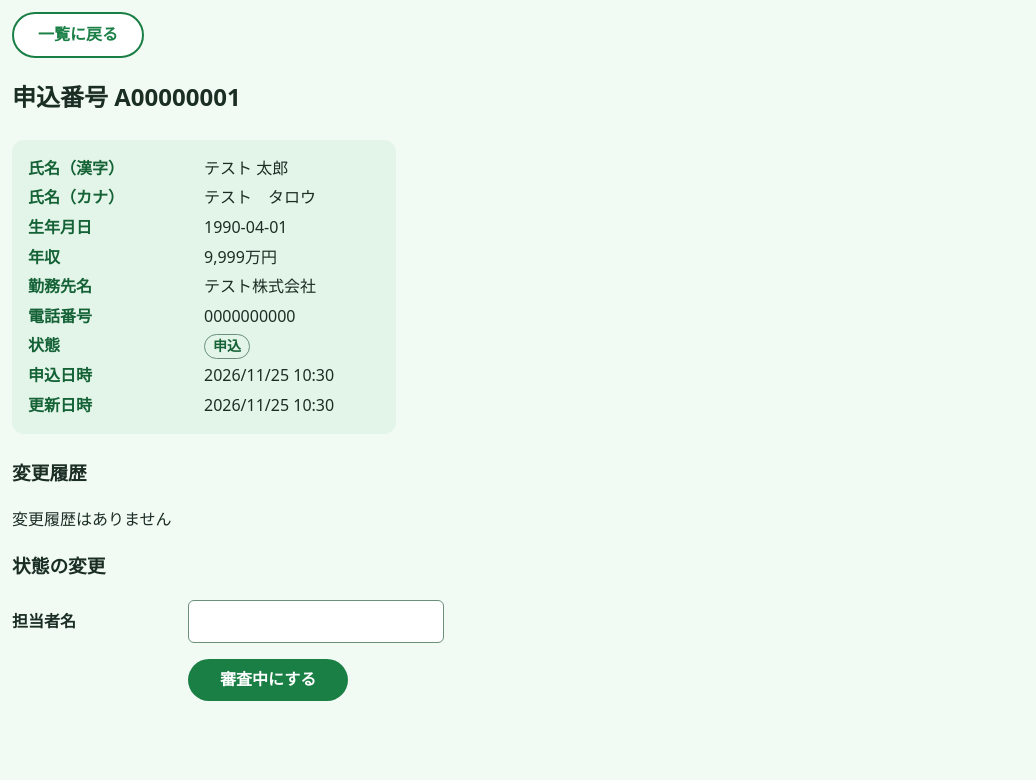
Scenario: 状態の変更が成功すると、返った詳細で状態・更新日時・履歴を置き換える
Type "テスト 担当A" into the field labelled "担当者名" at (316, 622), box x1=188 y1=600 x2=444 y2=644
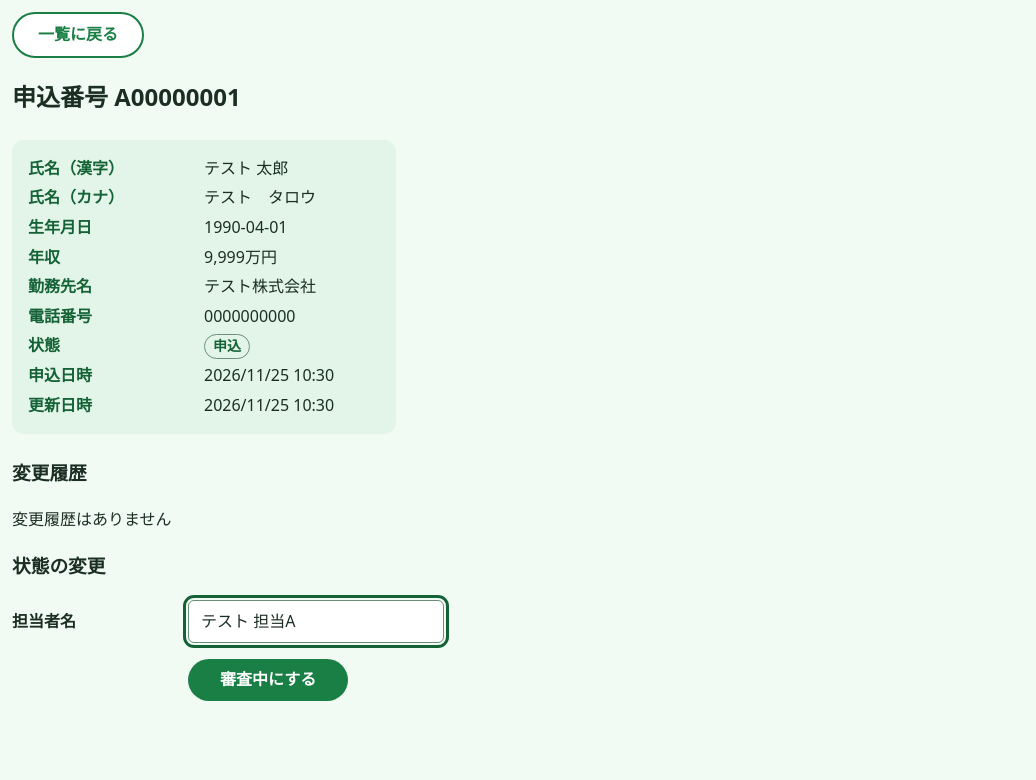
Click the button "審査中にする" at (268, 680), box x1=188 y1=660 x2=348 y2=701
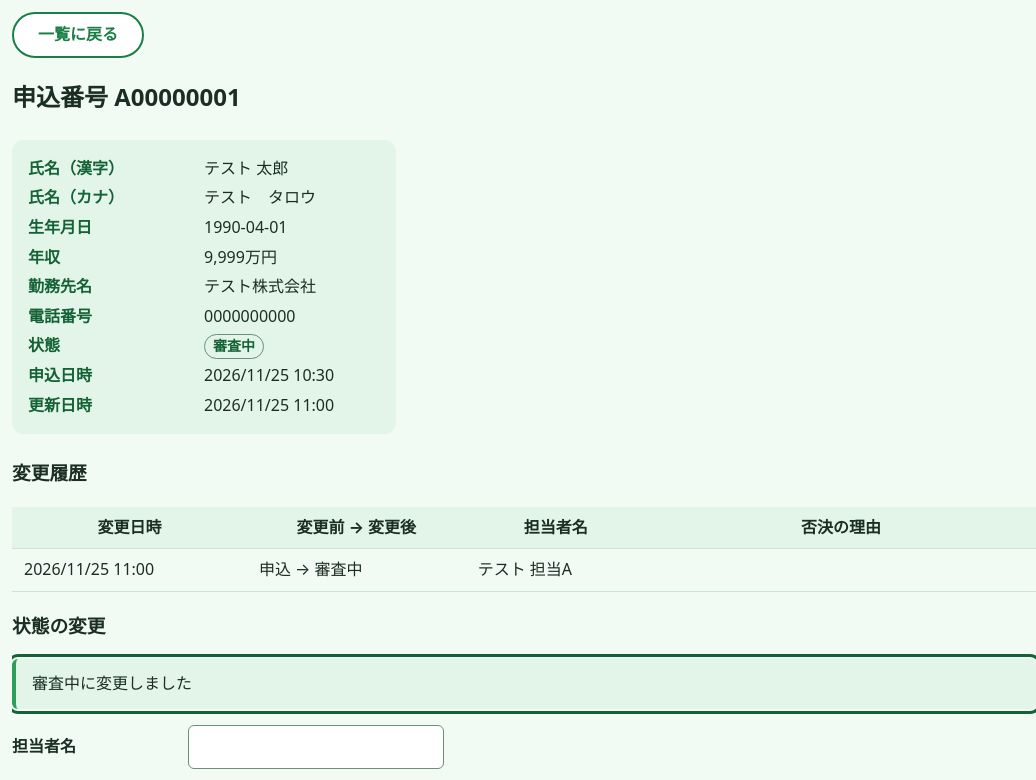
Expected: the text "審査中" is shown, x1=204 y1=334 x2=264 y2=359
